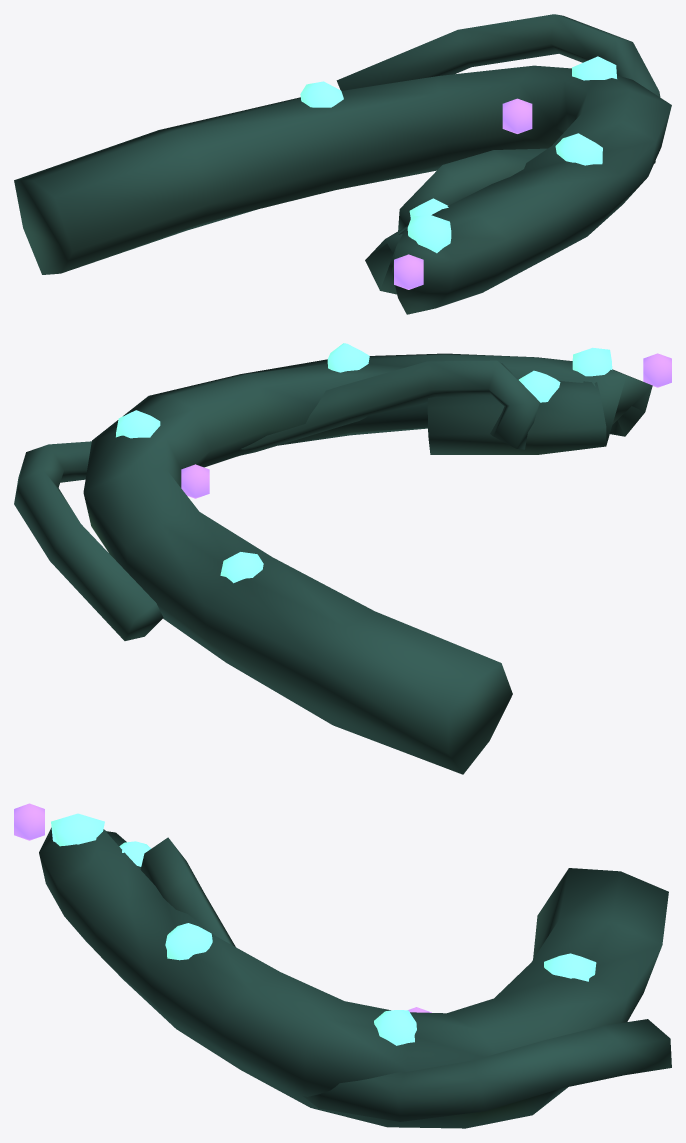
The model's file is flora_tendril.glb.
The picture shows the model from 3 angles, top to bottom: view 1: azimuth 30°, elevation 25°; view 2: azimuth 150°, elevation 25°; view 3: azimuth 270°, elevation 25°; orthographic projection. The views are drawn at different scales.
Parts seen in each view (by area): view 1: flora_tendril; view 2: flora_tendril; view 3: flora_tendril.
Part boxes in pixels (left/top/right/bottom): flora_tendril: left=14, top=14, right=671, bottom=314; flora_tendril: left=14, top=343, right=671, bottom=774; flora_tendril: left=14, top=803, right=671, bottom=1128.
Size of the model in its own units: 2.69 by 1.07 by 2.71.
